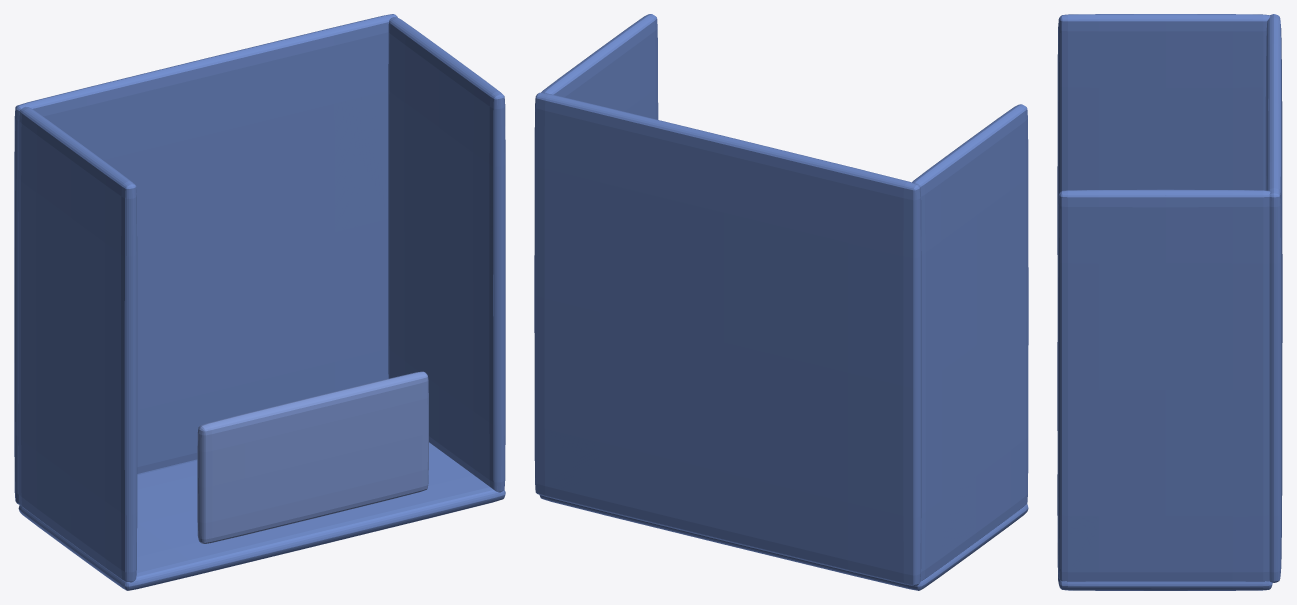
File: backpack_interior.glb
3 renders of one model, left to right at view 1: azimuth 30°, elevation 25°; view 2: azimuth 150°, elevation 25°; view 3: azimuth 270°, elevation 25°, orthographic. The views are drawn at different scales.
Parts seen in each view (by area): view 1: backpack_interior; view 2: backpack_interior; view 3: backpack_interior.
Boxes of the visible parts, x1,y1,x2,y2 form: backpack_interior: (14, 14, 505, 590); backpack_interior: (534, 14, 1028, 590); backpack_interior: (1057, 14, 1282, 590).
Bounding box in the file's own units: 0.9996 × 1.02 × 0.5196.
